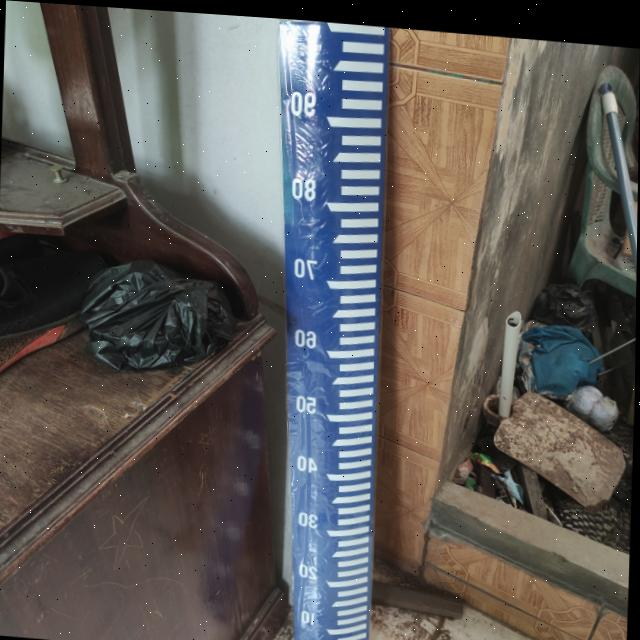water-meter: (246, 17, 409, 640)
